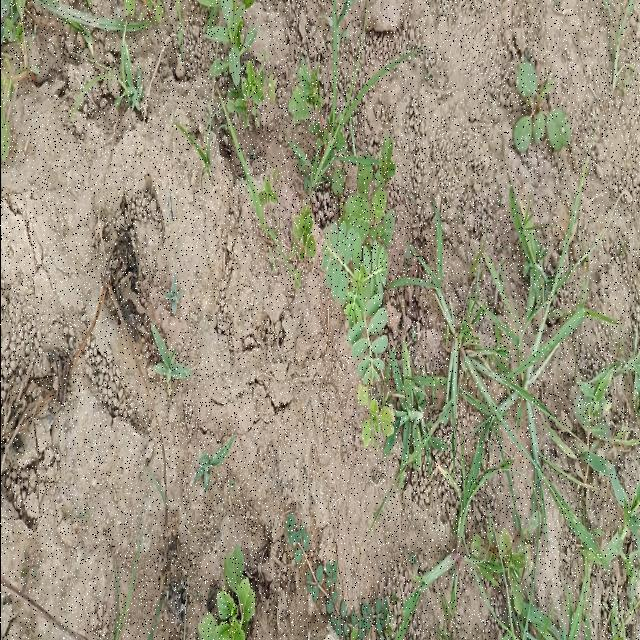plant: (321, 138, 394, 446)
